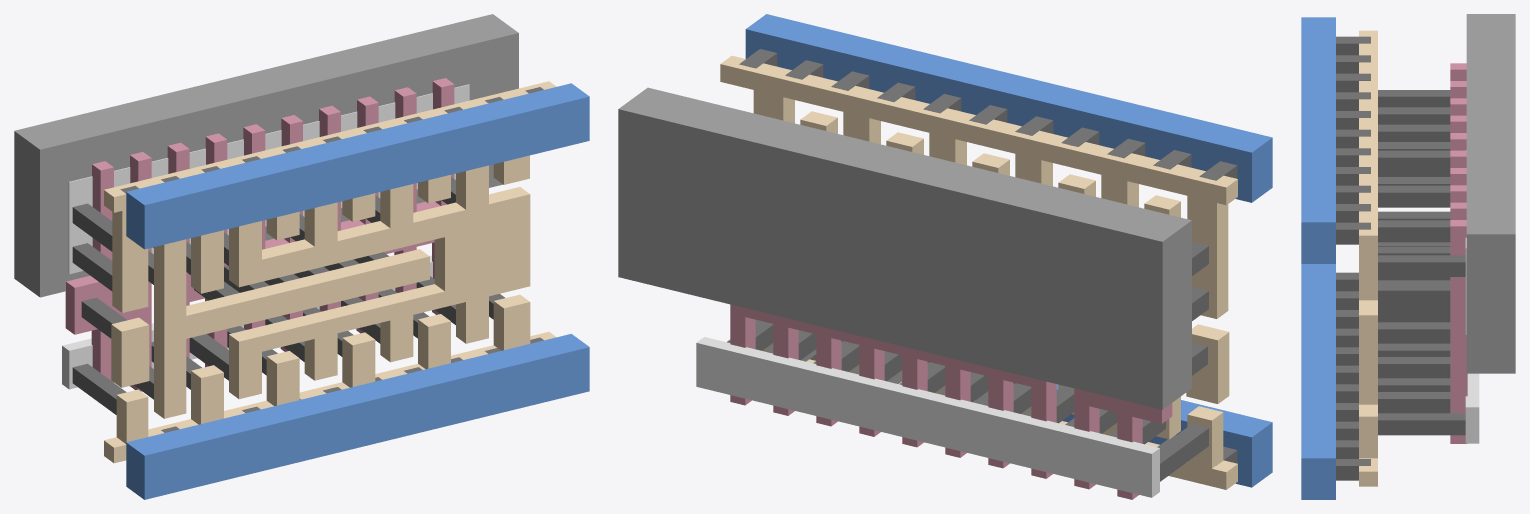
The model's file is sky130_fd_sc_hd__clkbuf_8.gds.gltf.
3 renders of one model, left to right at view 1: azimuth 30°, elevation 25°; view 2: azimuth 150°, elevation 25°; view 3: azimuth 270°, elevation 25°, orthographic. The views are drawn at different scales.
Visible parts, largest first — view 1: sky130_fd_sc_hd__clkbuf_8_li1, sky130_fd_sc_hd__clkbuf_8_met1, sky130_fd_sc_hd__clkbuf_8_nwell, sky130_fd_sc_hd__clkbuf_8_poly, sky130_fd_sc_hd__clkbuf_8_licon, sky130_fd_sc_hd__clkbuf_8_diff, sky130_fd_sc_hd__clkbuf_8_mcon; view 2: sky130_fd_sc_hd__clkbuf_8_nwell, sky130_fd_sc_hd__clkbuf_8_li1, sky130_fd_sc_hd__clkbuf_8_met1, sky130_fd_sc_hd__clkbuf_8_diff, sky130_fd_sc_hd__clkbuf_8_poly, sky130_fd_sc_hd__clkbuf_8_licon, sky130_fd_sc_hd__clkbuf_8_mcon; view 3: sky130_fd_sc_hd__clkbuf_8_licon, sky130_fd_sc_hd__clkbuf_8_nwell, sky130_fd_sc_hd__clkbuf_8_met1, sky130_fd_sc_hd__clkbuf_8_mcon, sky130_fd_sc_hd__clkbuf_8_li1, sky130_fd_sc_hd__clkbuf_8_poly, sky130_fd_sc_hd__clkbuf_8_diff.
Boxes of the visible parts, x1,y1,x2,y2 form: sky130_fd_sc_hd__clkbuf_8_li1: (104, 81, 556, 463); sky130_fd_sc_hd__clkbuf_8_met1: (126, 83, 589, 499); sky130_fd_sc_hd__clkbuf_8_nwell: (14, 14, 518, 297); sky130_fd_sc_hd__clkbuf_8_poly: (65, 78, 454, 391); sky130_fd_sc_hd__clkbuf_8_licon: (72, 177, 504, 414); sky130_fd_sc_hd__clkbuf_8_diff: (62, 84, 469, 389); sky130_fd_sc_hd__clkbuf_8_mcon: (120, 87, 543, 442); sky130_fd_sc_hd__clkbuf_8_nwell: (618, 87, 1191, 409); sky130_fd_sc_hd__clkbuf_8_li1: (720, 55, 1237, 489); sky130_fd_sc_hd__clkbuf_8_met1: (745, 14, 1272, 487); sky130_fd_sc_hd__clkbuf_8_diff: (696, 337, 1159, 497); sky130_fd_sc_hd__clkbuf_8_poly: (730, 304, 1172, 499); sky130_fd_sc_hd__clkbuf_8_licon: (727, 242, 1208, 481); sky130_fd_sc_hd__clkbuf_8_mcon: (739, 49, 1237, 465); sky130_fd_sc_hd__clkbuf_8_licon: (1378, 90, 1465, 435); sky130_fd_sc_hd__clkbuf_8_nwell: (1466, 14, 1515, 373); sky130_fd_sc_hd__clkbuf_8_met1: (1301, 17, 1335, 499); sky130_fd_sc_hd__clkbuf_8_mcon: (1336, 36, 1370, 480); sky130_fd_sc_hd__clkbuf_8_li1: (1359, 30, 1377, 486); sky130_fd_sc_hd__clkbuf_8_poly: (1450, 63, 1467, 443); sky130_fd_sc_hd__clkbuf_8_diff: (1465, 150, 1479, 443).
Bounding box in the file's own units: 5.44 × 3.2 × 2.24.
